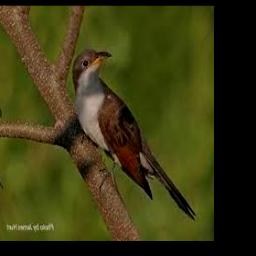Cuckoo: (72, 50, 197, 220)
